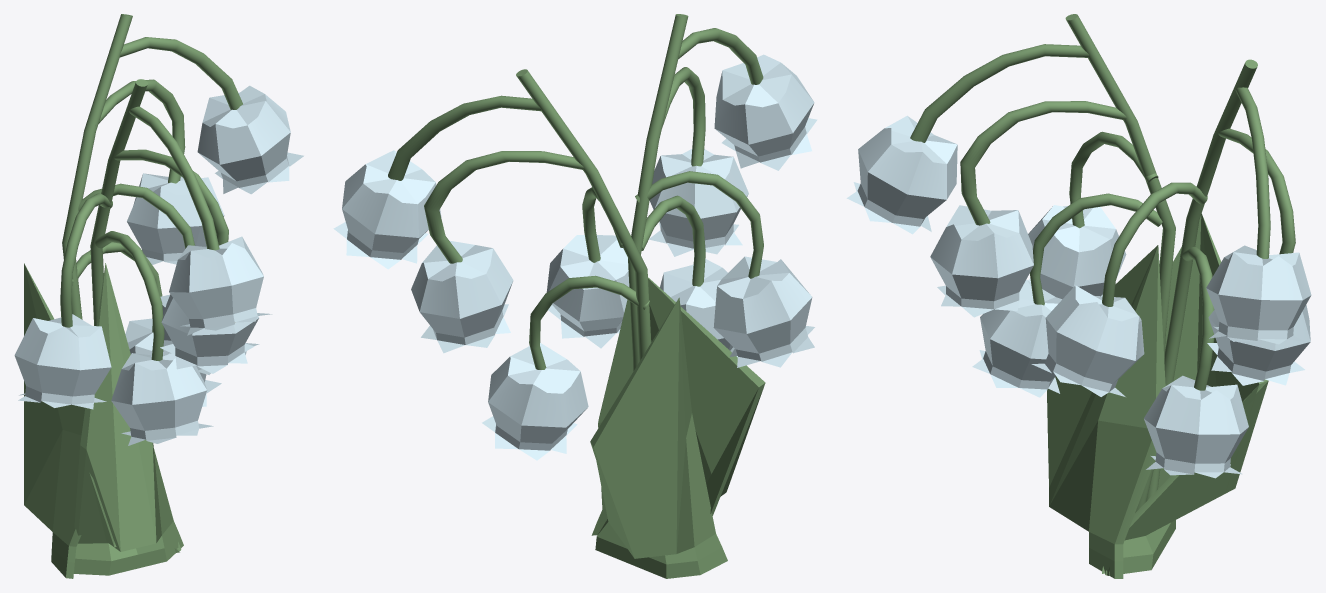
File: muguetFull.fbx
The picture shows the model from 3 angles, left to right: view 1: azimuth 30°, elevation 25°; view 2: azimuth 150°, elevation 25°; view 3: azimuth 270°, elevation 25°; orthographic projection. The views are drawn at different scales.
Visible parts, largest first — view 1: pCube3, pSphere15, pSphere14, pSphere4, pSphere1, pSphere3, pSphere12, pCylinder2, pCylinder9, pCylinder4, pCylinder8, pCylinder1 (+6 smaller); view 2: pCube3, pSphere16, pSphere4, pSphere14, pSphere3, pSphere15, pSphere5, pSphere12, pCylinder2, pCylinder9, pCylinder3, pSphere1 (+7 smaller); view 3: pCube3, pSphere12, pSphere4, pSphere16, pSphere5, pSphere15, pSphere1, pSphere14, pCylinder2, pCylinder9, pSphere3, pCylinder10 (+7 smaller).
Boxes of the visible parts, x1=… form: pCube3: x1=24, y1=263, x2=183, y2=578; pSphere15: x1=197, y1=85, x2=303, y2=194; pSphere14: x1=14, y1=314, x2=111, y2=409; pSphere4: x1=169, y1=236, x2=272, y2=335; pSphere1: x1=111, y1=353, x2=213, y2=445; pSphere3: x1=127, y1=173, x2=224, y2=264; pSphere12: x1=160, y1=294, x2=258, y2=373; pCylinder2: x1=62, y1=14, x2=132, y2=319; pCylinder9: x1=90, y1=79, x2=147, y2=325; pCylinder4: x1=129, y1=106, x2=219, y2=250; pCylinder8: x1=120, y1=37, x2=242, y2=109; pCylinder1: x1=95, y1=231, x2=164, y2=360; pCube3: x1=590, y1=277, x2=765, y2=578; pSphere16: x1=482, y1=343, x2=588, y2=460; pSphere4: x1=714, y1=54, x2=817, y2=170; pSphere14: x1=713, y1=256, x2=814, y2=367; pSphere3: x1=411, y1=240, x2=513, y2=353; pSphere15: x1=333, y1=150, x2=441, y2=269; pSphere5: x1=546, y1=235, x2=629, y2=348; pSphere12: x1=649, y1=149, x2=748, y2=256; pCylinder2: x1=516, y1=69, x2=651, y2=361; pCylinder9: x1=628, y1=14, x2=688, y2=371; pCylinder3: x1=424, y1=151, x2=584, y2=263; pSphere1: x1=660, y1=259, x2=737, y2=357; pCube3: x1=1047, y1=214, x2=1268, y2=578; pSphere12: x1=930, y1=205, x2=1033, y2=317; pSphere4: x1=846, y1=115, x2=957, y2=234; pSphere16: x1=1144, y1=375, x2=1248, y2=478; pSphere5: x1=1031, y1=285, x2=1144, y2=396; pSphere15: x1=1206, y1=245, x2=1311, y2=344; pSphere1: x1=972, y1=280, x2=1061, y2=397; pSphere14: x1=1028, y1=205, x2=1126, y2=299; pCylinder2: x1=1146, y1=59, x2=1257, y2=501; pCylinder9: x1=1065, y1=14, x2=1175, y2=512; pSphere3: x1=1207, y1=304, x2=1310, y2=385; pCylinder10: x1=960, y1=101, x2=1126, y2=225.
Bounding box in the file's own units: 6.62 × 8.6 × 6.83.
